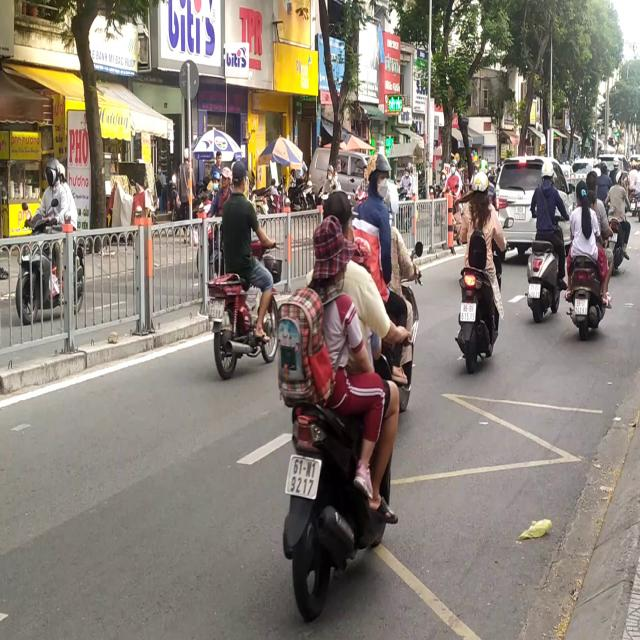bien_trang: (285, 448, 321, 504), (457, 297, 480, 324), (524, 276, 546, 302), (573, 296, 591, 320)
